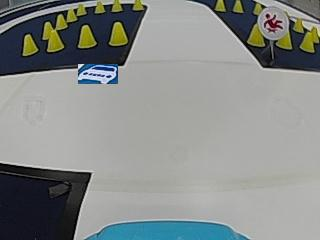cone: (109, 21, 127, 46), (77, 24, 95, 48), (247, 24, 264, 47), (46, 30, 63, 52), (21, 33, 37, 55), (300, 30, 314, 52), (277, 32, 292, 49), (55, 12, 66, 30), (42, 21, 52, 39), (293, 17, 303, 33), (66, 8, 77, 22), (94, 1, 105, 14), (76, 3, 87, 16), (111, 0, 122, 12), (214, 0, 225, 12), (233, 0, 243, 13), (132, 0, 143, 11)
tumble: (260, 9, 287, 36)
